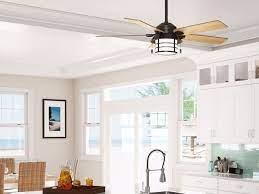chair: (18, 160, 49, 194), (62, 158, 78, 181), (0, 155, 17, 173), (0, 164, 4, 194)
door: (138, 105, 175, 189), (101, 107, 136, 194)
fan: (87, 5, 231, 48)
light: (149, 35, 186, 56)
table: (0, 171, 59, 186), (41, 183, 104, 194)
